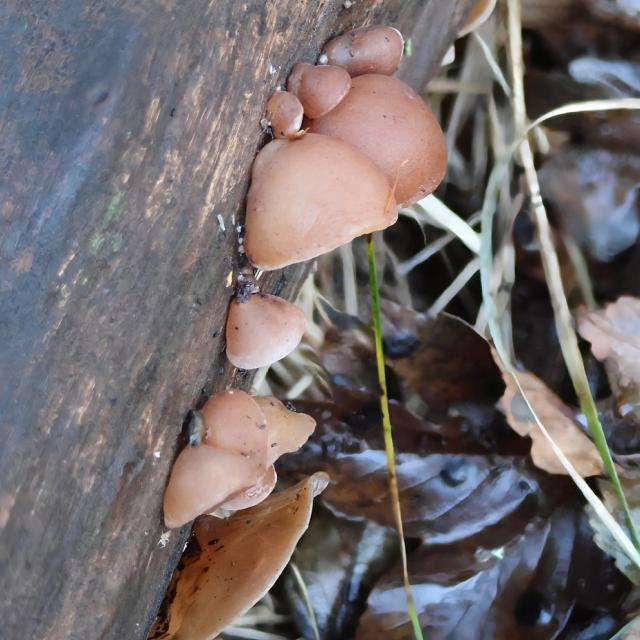Fase Muda: (152, 384, 276, 542), (220, 276, 310, 376), (321, 16, 419, 84), (289, 60, 357, 114), (264, 81, 305, 141)
Matang: (223, 127, 410, 281), (298, 73, 451, 208), (214, 390, 319, 522)
